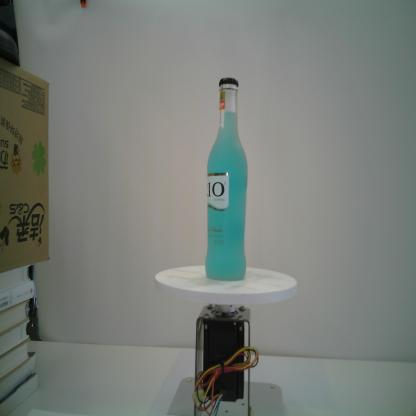Alcohol: (204, 77, 249, 282)
